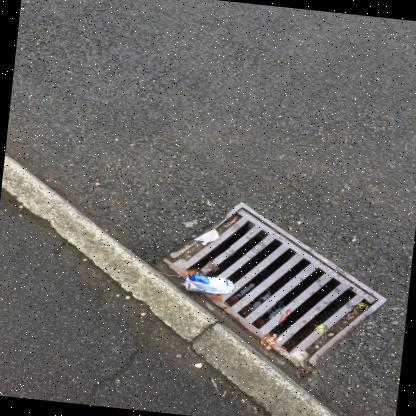Drink can: (182, 275, 233, 293)
Pop tab: (182, 282, 189, 285)
Unlabeled litter: (193, 229, 219, 245)
